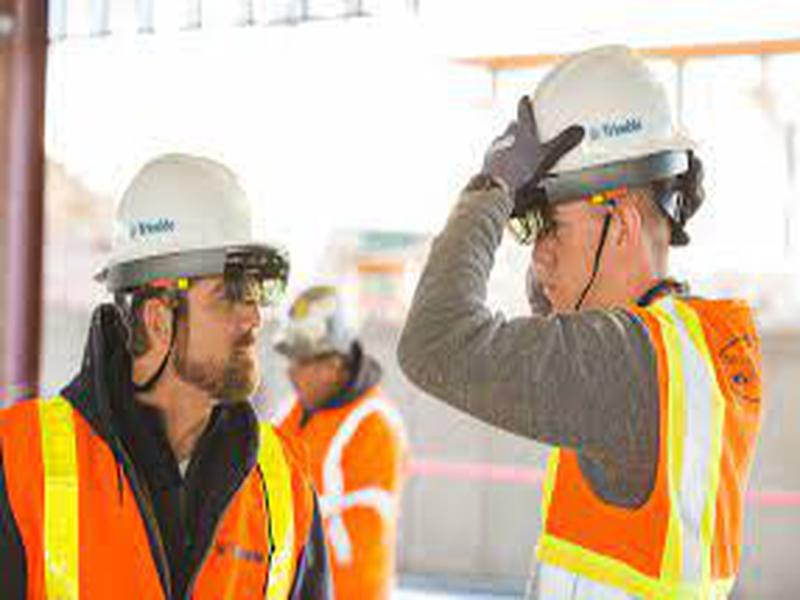hard-hat: (469, 41, 703, 214), (90, 150, 293, 301)
